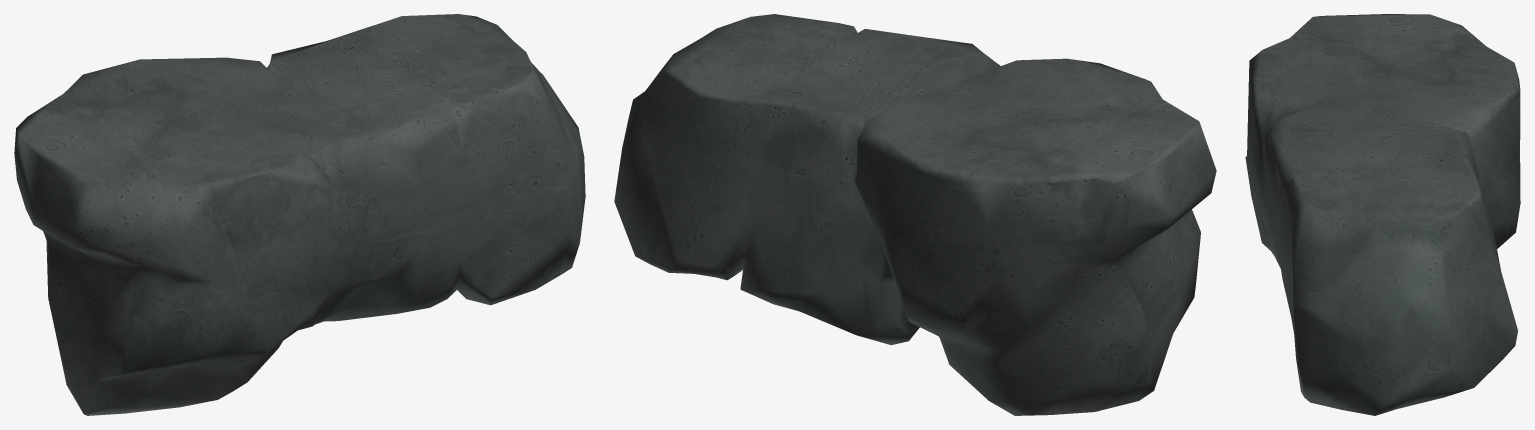
File: Cliff_Cap01.fbx
The picture shows the model from 3 angles, left to right: view 1: azimuth 30°, elevation 25°; view 2: azimuth 150°, elevation 25°; view 3: azimuth 270°, elevation 25°; orthographic projection. The views are drawn at different scales.
Parts seen in each view (by area): view 1: SM_Cliff_Cap_01.mo; view 2: SM_Cliff_Cap_01.mo; view 3: SM_Cliff_Cap_01.mo.
Boxes of the visible parts, box(x1,y1,x2,y2) form: SM_Cliff_Cap_01.mo: box(14, 14, 585, 415); SM_Cliff_Cap_01.mo: box(614, 14, 1216, 415); SM_Cliff_Cap_01.mo: box(1245, 14, 1520, 415).
Size of the model in its own units: 985 by 472 by 482.
Materials: 1 (1 with a texture image).
